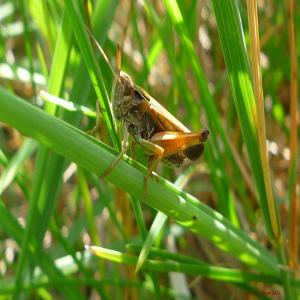locust: (107, 46, 203, 178)
